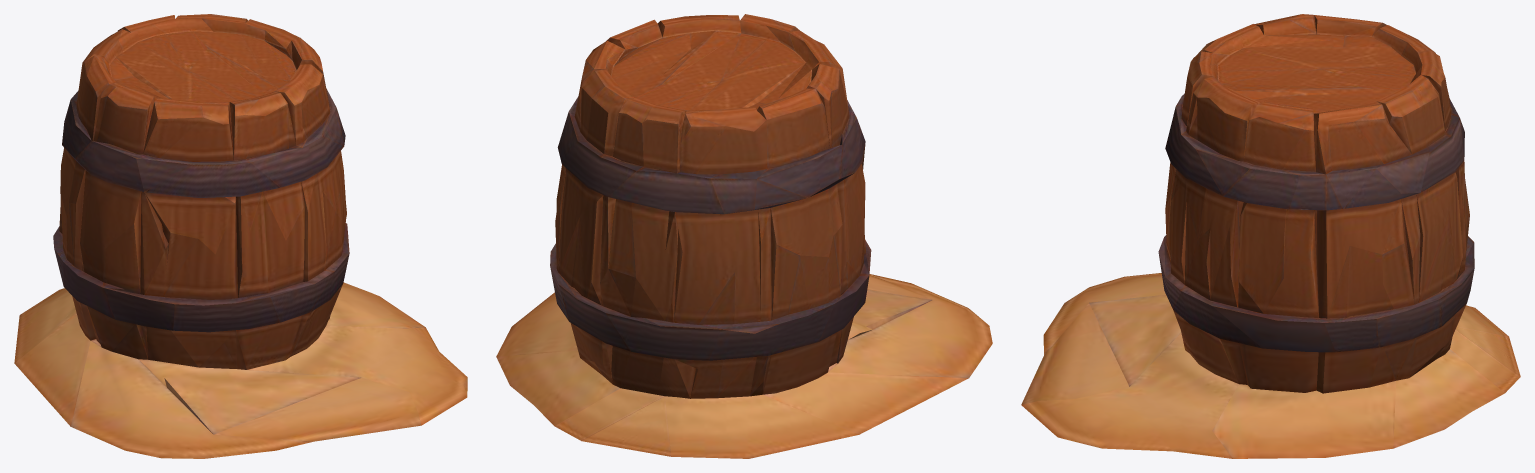
File: west_barrel.glb
3 views of the same model, side by side, from view 1: azimuth 30°, elevation 25°; view 2: azimuth 150°, elevation 25°; view 3: azimuth 270°, elevation 25° (orthographic). The views are drawn at different scales.
Parts seen in each view (by area): view 1: mesh_node; view 2: mesh_node; view 3: mesh_node.
Boxes of the visible parts, bbox=[...] form: mesh_node: bbox=[14, 14, 467, 458]; mesh_node: bbox=[496, 14, 992, 458]; mesh_node: bbox=[1021, 14, 1520, 458].
Bounding box in the file's own units: 1.72 × 1.27 × 1.9.
1 material, 1 textured.
